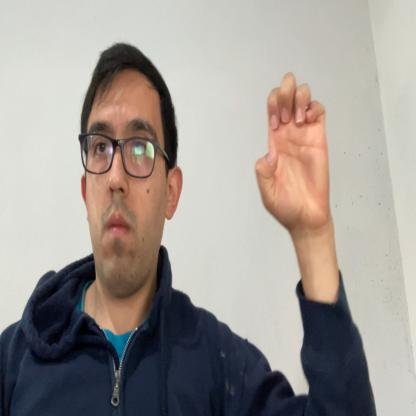E: (253, 70, 331, 232)
